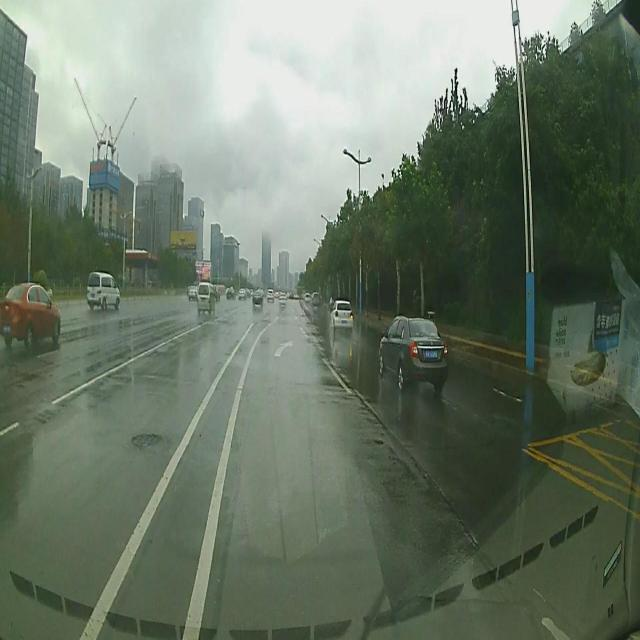car: (376, 313, 449, 390), (0, 282, 61, 349), (86, 272, 121, 310), (328, 298, 354, 334), (197, 280, 216, 316), (252, 288, 262, 308), (312, 292, 322, 310), (188, 284, 197, 299), (278, 290, 286, 306), (266, 288, 275, 301), (226, 287, 234, 300), (238, 288, 246, 299), (304, 292, 310, 304)
